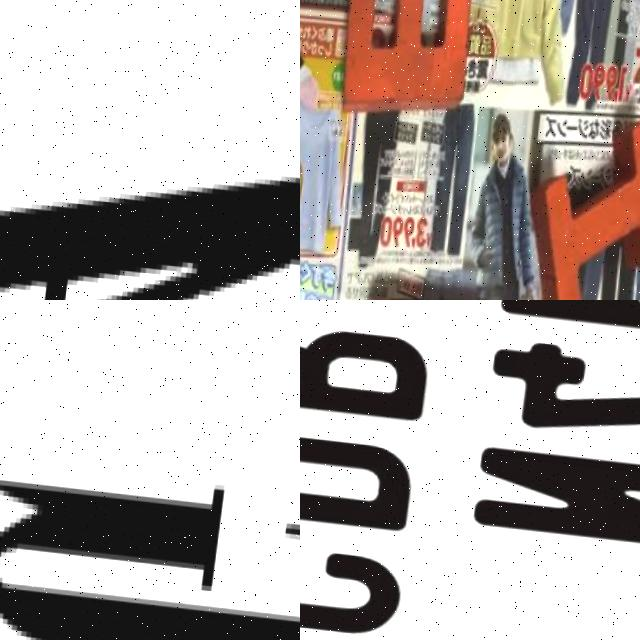4: (481, 324, 640, 442)
A: (0, 94, 300, 300)
D: (300, 416, 424, 529)
E: (330, 0, 489, 121)
G: (0, 456, 300, 640), (300, 533, 414, 640)
I: (530, 97, 640, 300)
N: (469, 442, 640, 547)
R: (300, 303, 437, 417)
